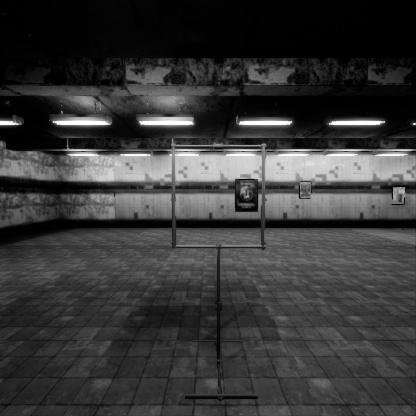gate: (172, 166, 275, 272)
